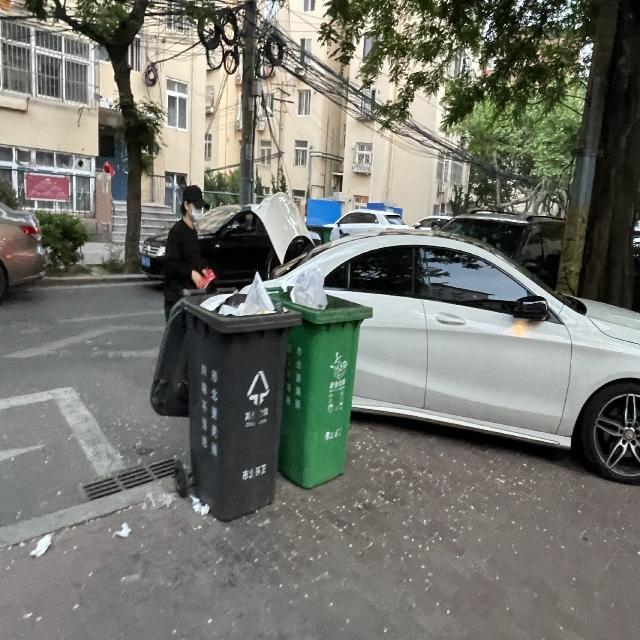overflow: (149, 271, 300, 521), (265, 267, 372, 490)
